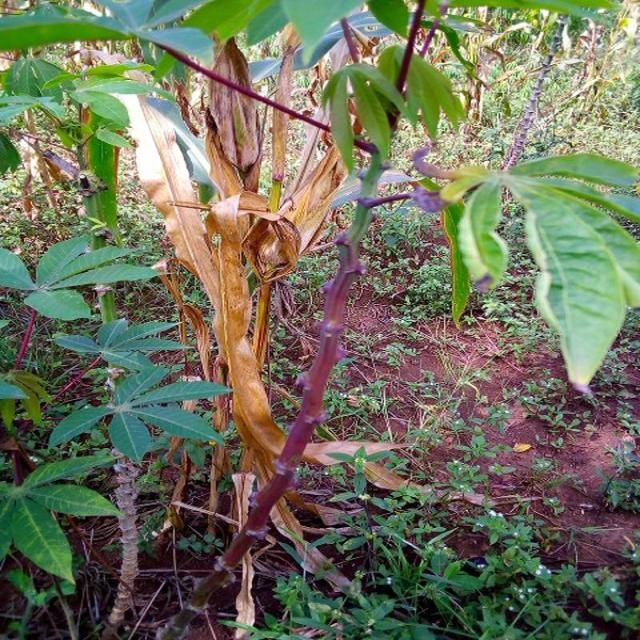cassava leaf: (504, 157, 638, 390)
